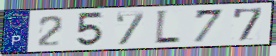2: (36, 15, 65, 48)
5: (75, 11, 106, 48)
7: (191, 8, 226, 43), (231, 6, 265, 42), (114, 11, 147, 46)
L: (154, 9, 183, 46)
